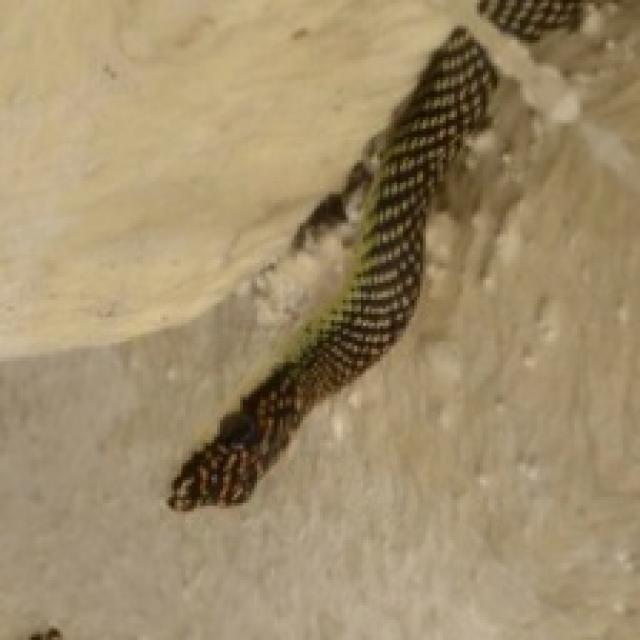paradise tree snake: (169, 29, 494, 509)
